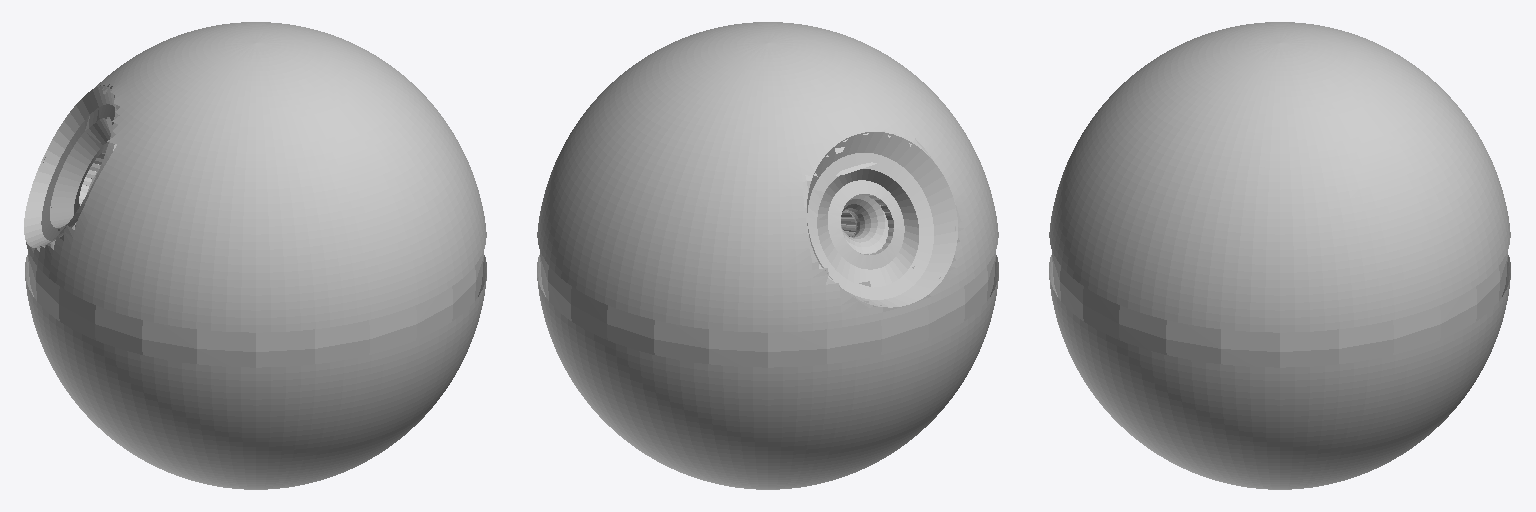
The model's file is death-star.obj.
3 renders of one model, left to right at view 1: azimuth 30°, elevation 25°; view 2: azimuth 150°, elevation 25°; view 3: azimuth 270°, elevation 25°, orthographic.
Parts seen in each view (by area): view 1: Sphere5, Sphere1, Sphere8, Sphere4, Sphere9, Sphere; view 2: Sphere5, Sphere1, Sphere9, Sphere8, Sphere4, Sphere, Torus3; view 3: Sphere5, Sphere1, Sphere8, Sphere4.
Part boxes in pixels (x1,y1,x2,y2): Sphere5: (25,22,486,489); Sphere1: (25,22,486,489); Sphere8: (28,246,483,367); Sphere4: (28,251,483,367); Sphere9: (24,86,117,247); Sphere: (24,86,116,247); Sphere5: (537,22,998,489); Sphere1: (537,22,998,489); Sphere9: (807,132,957,307); Sphere8: (540,251,995,367); Sphere4: (540,251,995,367); Sphere: (808,132,957,307); Torus3: (841,194,888,254); Sphere5: (1049,22,1510,489); Sphere1: (1049,23,1510,488); Sphere8: (1052,251,1507,367); Sphere4: (1052,251,1507,367).
Size of the model in its own units: 0.9846 by 0.9995 by 0.9846.